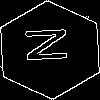N: (25, 25, 79, 64)
